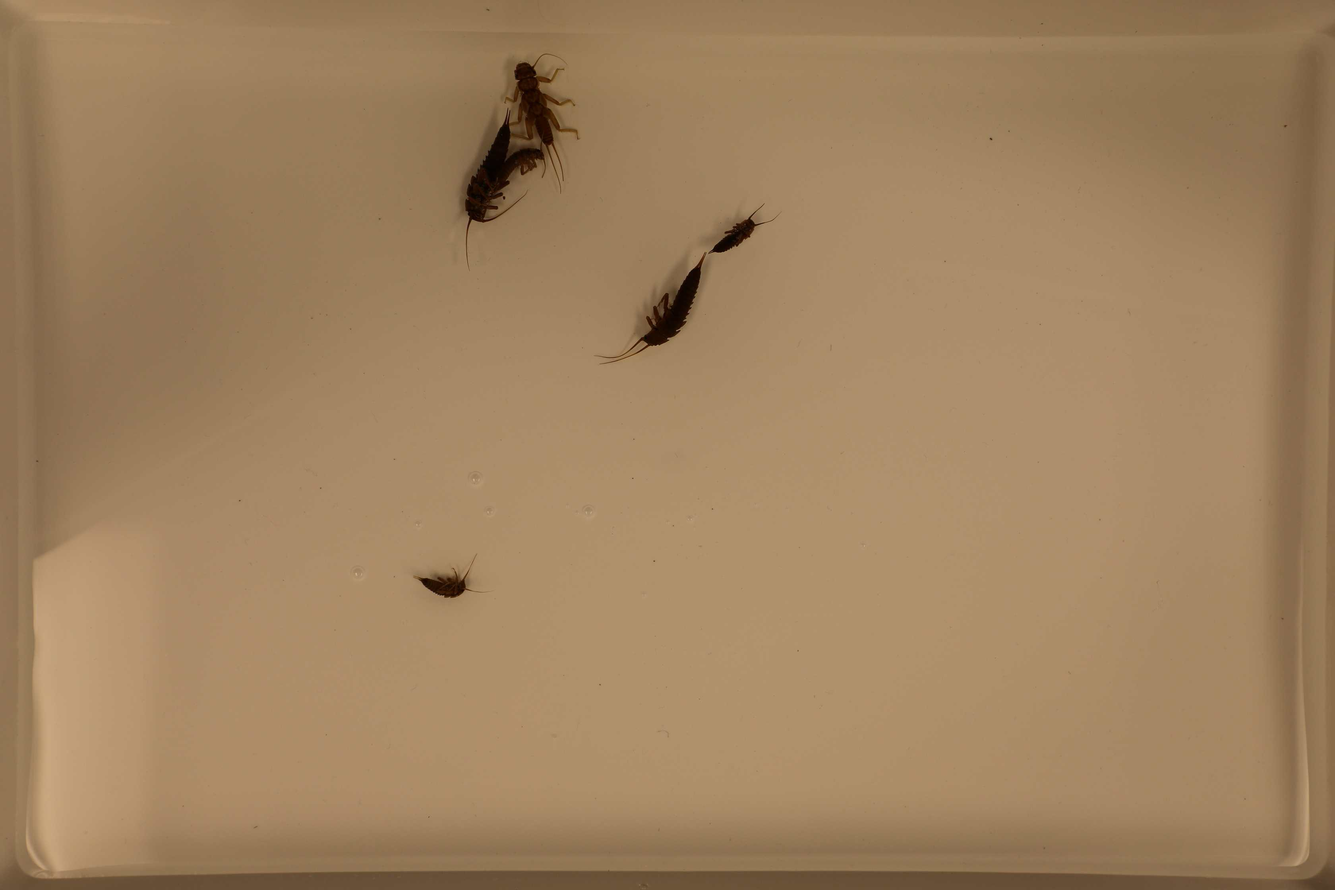Stonefly: (594, 249, 708, 360), (456, 96, 507, 289), (507, 54, 583, 149), (712, 198, 779, 256), (408, 550, 484, 601), (509, 139, 555, 185)
